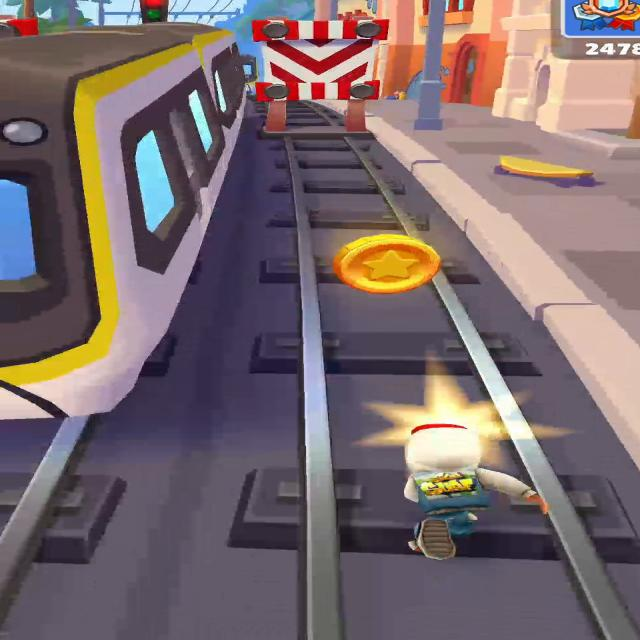jump-barrier: (253, 16, 387, 133)
train: (0, 22, 245, 420), (241, 54, 258, 93)
